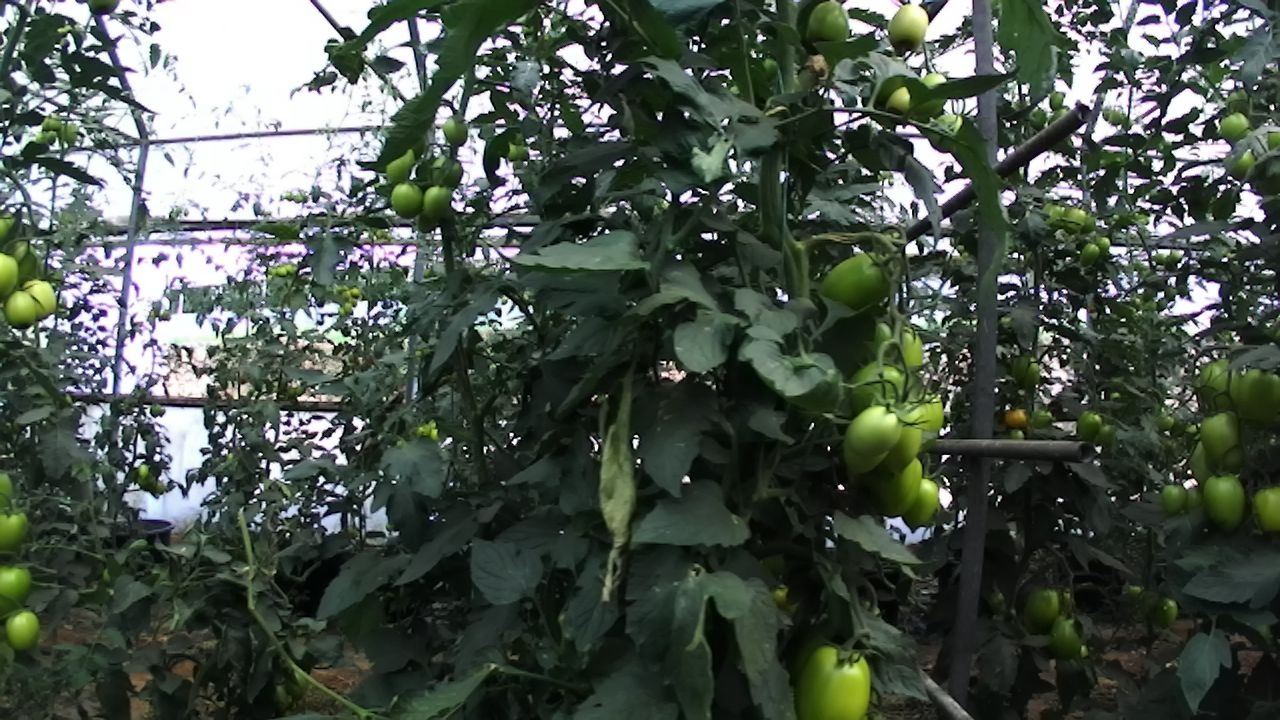tomato: (775, 630, 893, 720), (804, 237, 909, 325), (840, 351, 914, 422), (1185, 355, 1252, 427), (871, 394, 925, 483), (1193, 405, 1254, 482), (865, 311, 931, 382), (841, 395, 909, 463), (1228, 352, 1280, 435), (1197, 467, 1254, 541), (875, 452, 931, 524), (798, 0, 863, 56), (880, 0, 939, 61), (1016, 579, 1069, 641), (898, 473, 948, 537), (1038, 609, 1093, 666), (0, 602, 54, 660), (0, 557, 45, 616), (16, 271, 63, 324), (0, 498, 43, 555), (1211, 106, 1263, 151), (377, 143, 421, 193), (1144, 587, 1187, 637), (3, 284, 43, 336), (386, 177, 429, 225), (415, 180, 459, 224), (881, 79, 925, 123), (1006, 349, 1048, 395), (1216, 147, 1263, 188), (427, 149, 467, 196), (1070, 403, 1108, 449), (1156, 476, 1193, 519), (438, 111, 474, 152), (1000, 401, 1037, 433), (1060, 203, 1090, 237), (1074, 238, 1105, 270), (1092, 231, 1118, 256)
